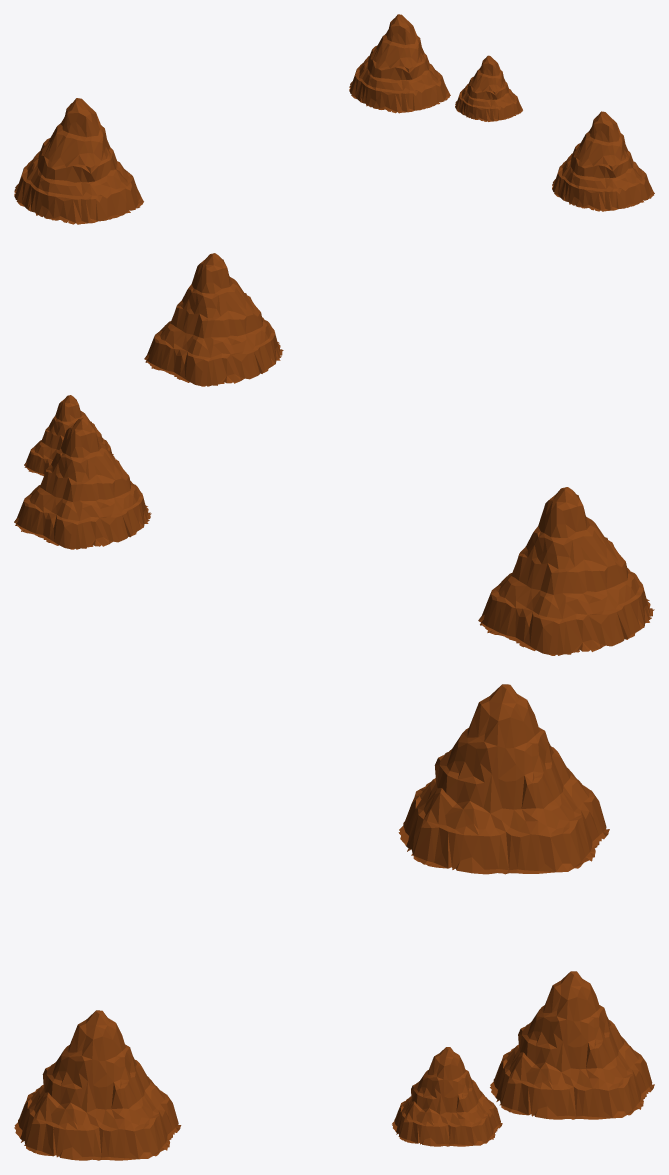
File: Mountain_2_LOD_Medium.glb
The picture shows the model from 3 angles, top to bottom: view 1: azimuth 30°, elevation 25°; view 2: azimuth 150°, elevation 25°; view 3: azimuth 270°, elevation 25°; orthographic projection. The views are drawn at different scales.
Parts seen in each view (by area): view 1: Mountain_2_LOD_Medium.004; view 2: Mountain_2_LOD_Medium.004; view 3: Mountain_2_LOD_Medium.004.
Boxes of the visible parts, box(x1,y1,x2,y2) form: Mountain_2_LOD_Medium.004: box(14, 14, 654, 224); Mountain_2_LOD_Medium.004: box(14, 253, 654, 655); Mountain_2_LOD_Medium.004: box(14, 684, 654, 1160).
Bounding box in the file's own units: 546 × 105 × 393.
